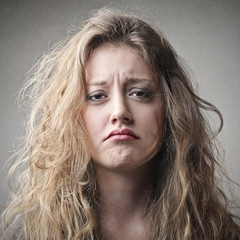teen: (68, 19, 177, 161)
